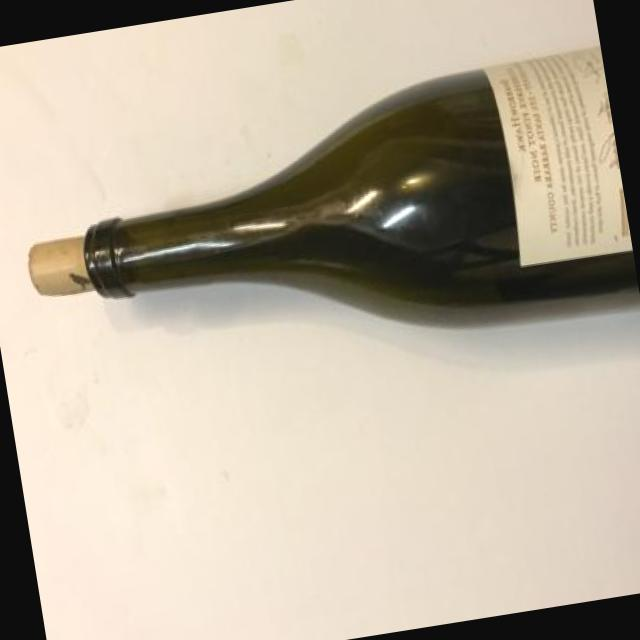chai_thuy_tinh: (29, 47, 640, 328)
